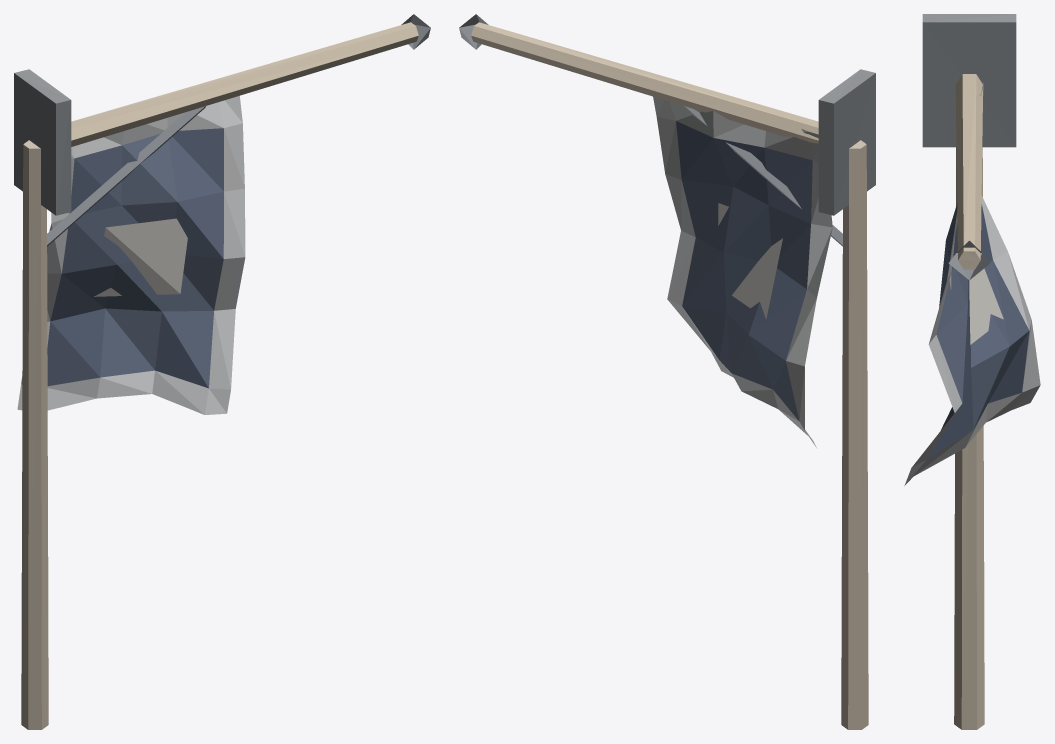
File: flag.notched.dianqi__pole.horizontal.xiecheng__armHang.glb
The picture shows the model from 3 angles, left to right: view 1: azimuth 30°, elevation 25°; view 2: azimuth 150°, elevation 25°; view 3: azimuth 270°, elevation 25°; orthographic projection. The views are drawn at different scales.
Visible parts, largest first — view 1: flag.notched.dianqi; view 2: flag.notched.dianqi; view 3: flag.notched.dianqi.
Part boxes in pixels (x1,y1,x2,y2): flag.notched.dianqi: (14,14,430,729); flag.notched.dianqi: (459,14,875,729); flag.notched.dianqi: (904,14,1040,729).
Bounding box in the file's own units: 2.12 × 3.18 × 0.5532.
